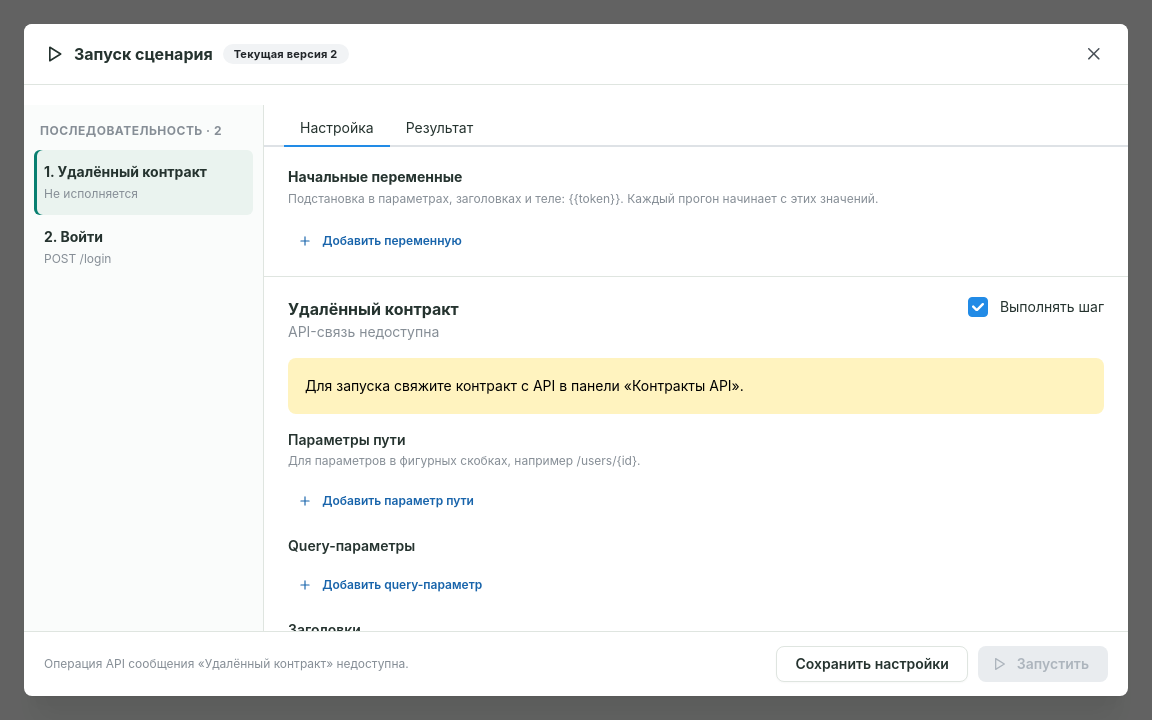
Test: ScenarioExecutionPanel › allows disabling a dangling request and running the remaining valid HTTP step
Click the checkbox labelled "Выполнять шаг": click(978, 307) [968, 297, 988, 317]
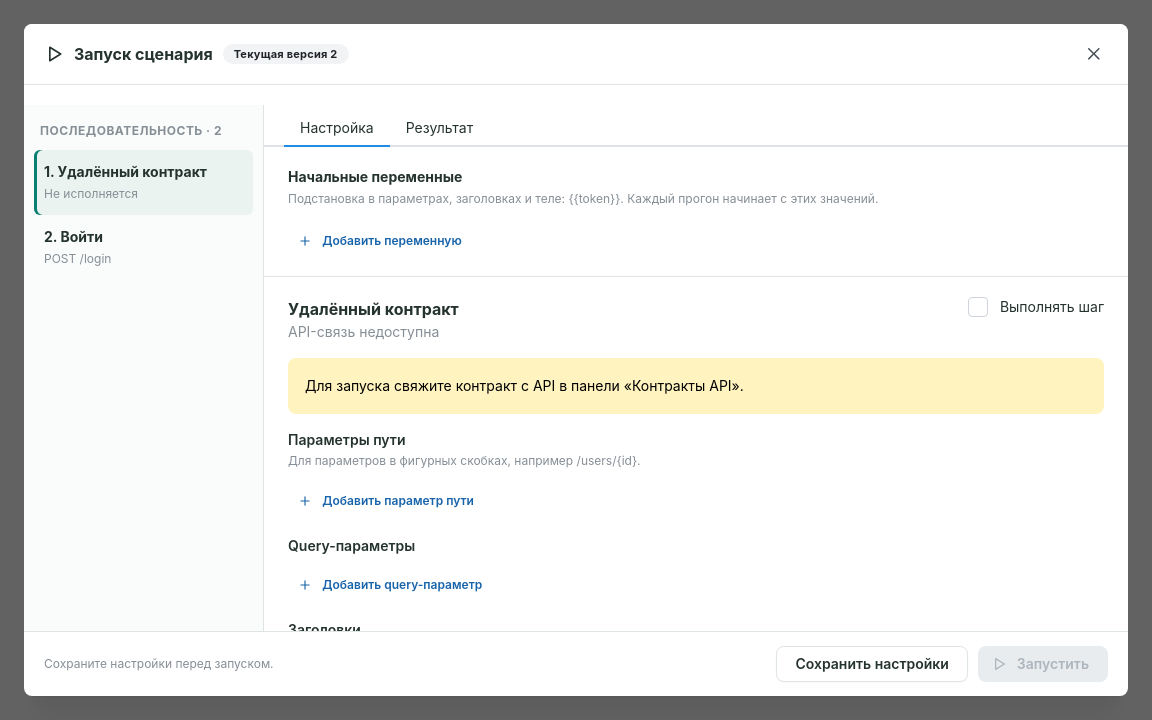
Click the button "Сохранить настройки": click(872, 664) [776, 646, 968, 682]
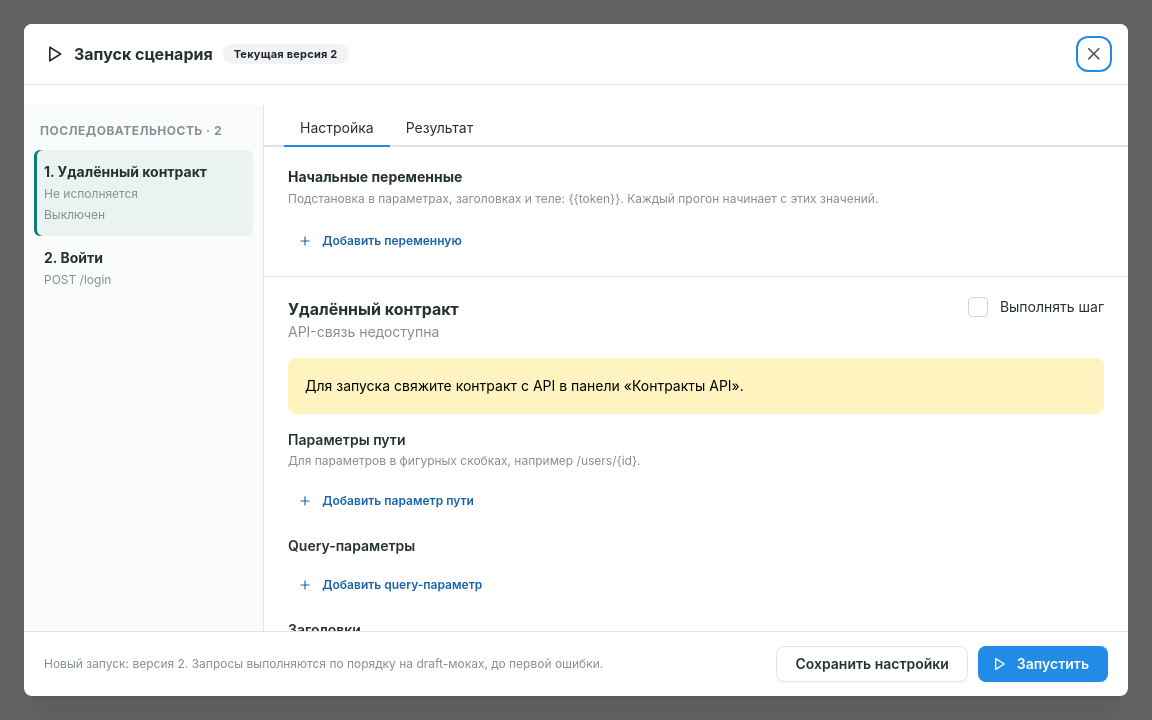
Expected: the button "Запустить" is enabled
Click the button "Запустить": click(1043, 664) [978, 646, 1108, 682]
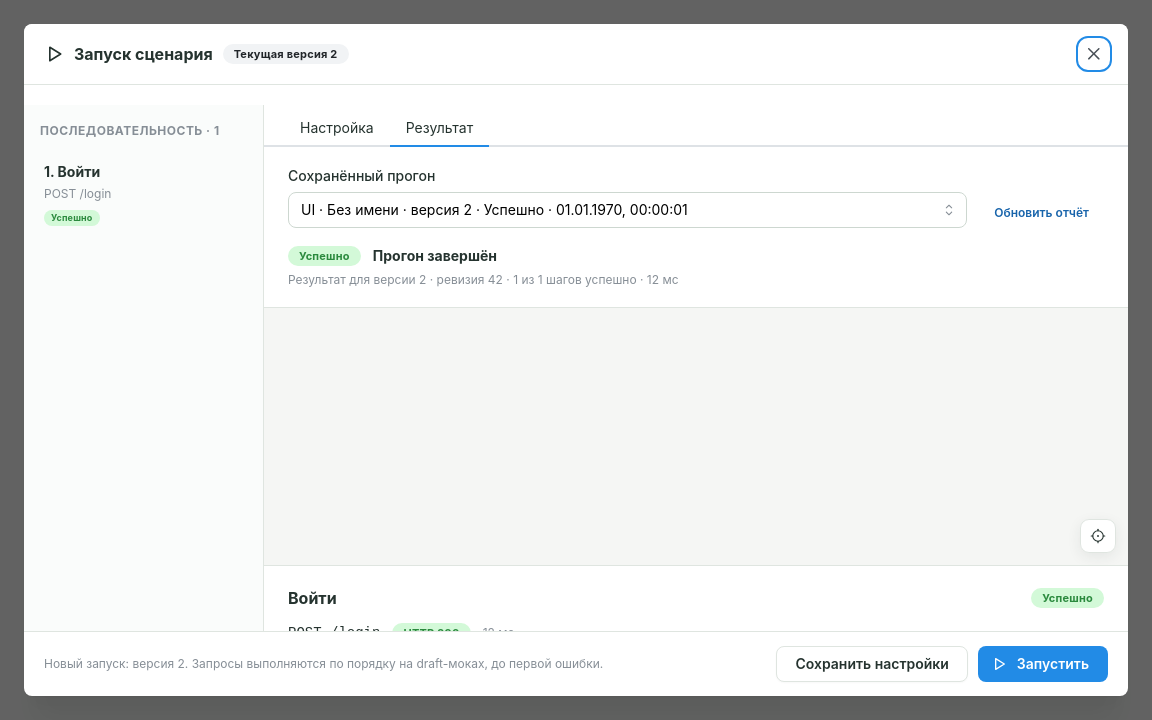
Expected: the text "Прогон завершён" is shown, [373, 246, 497, 266]
